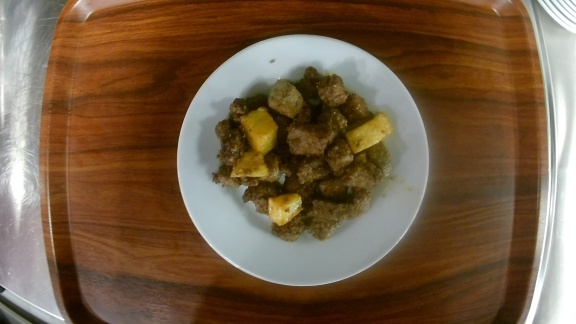arnavutcigeri: (174, 33, 431, 288)
